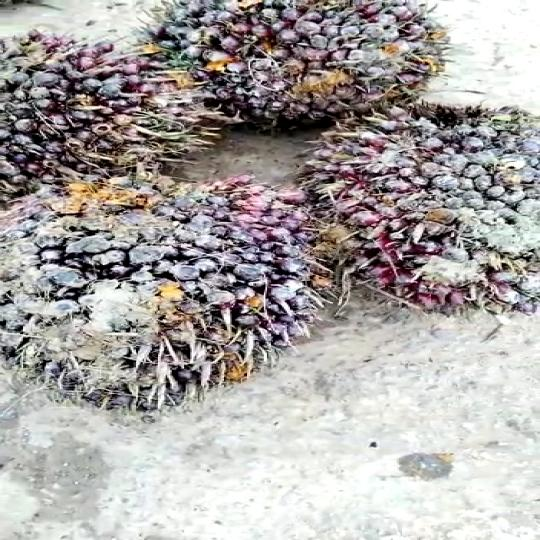kurang masak: (0, 167, 341, 422), (291, 99, 540, 323), (152, 0, 456, 130), (0, 26, 205, 186)
